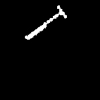half_double_crochet: (25, 6, 66, 38)
